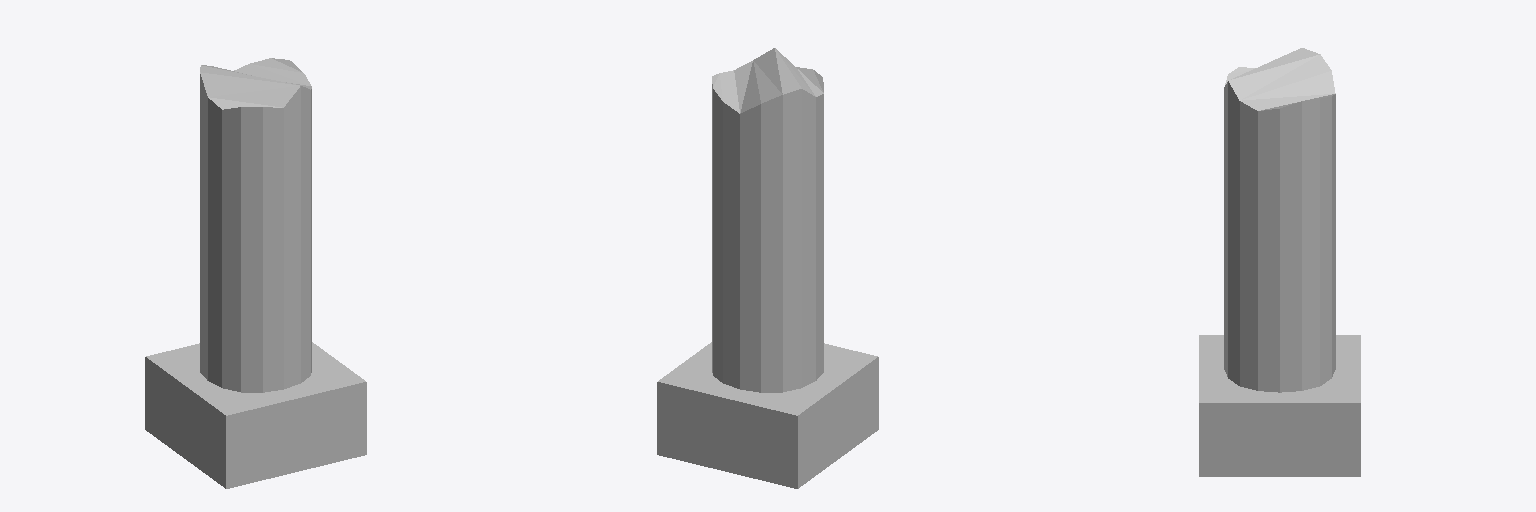
Rendered from pillar2.obj.
3 views of the same model, side by side, from view 1: azimuth 30°, elevation 25°; view 2: azimuth 150°, elevation 25°; view 3: azimuth 270°, elevation 25° (orthographic).
Visible parts, largest first — view 1: pillar.002_Cube.004; view 2: pillar.002_Cube.004; view 3: pillar.002_Cube.004.
Part boxes in pixels (left/top/right/bottom): pillar.002_Cube.004: left=145, top=58, right=366, bottom=488; pillar.002_Cube.004: left=657, top=48, right=878, bottom=488; pillar.002_Cube.004: left=1199, top=48, right=1360, bottom=476.
Bounding box in the file's own units: 4 × 10.17 × 4.